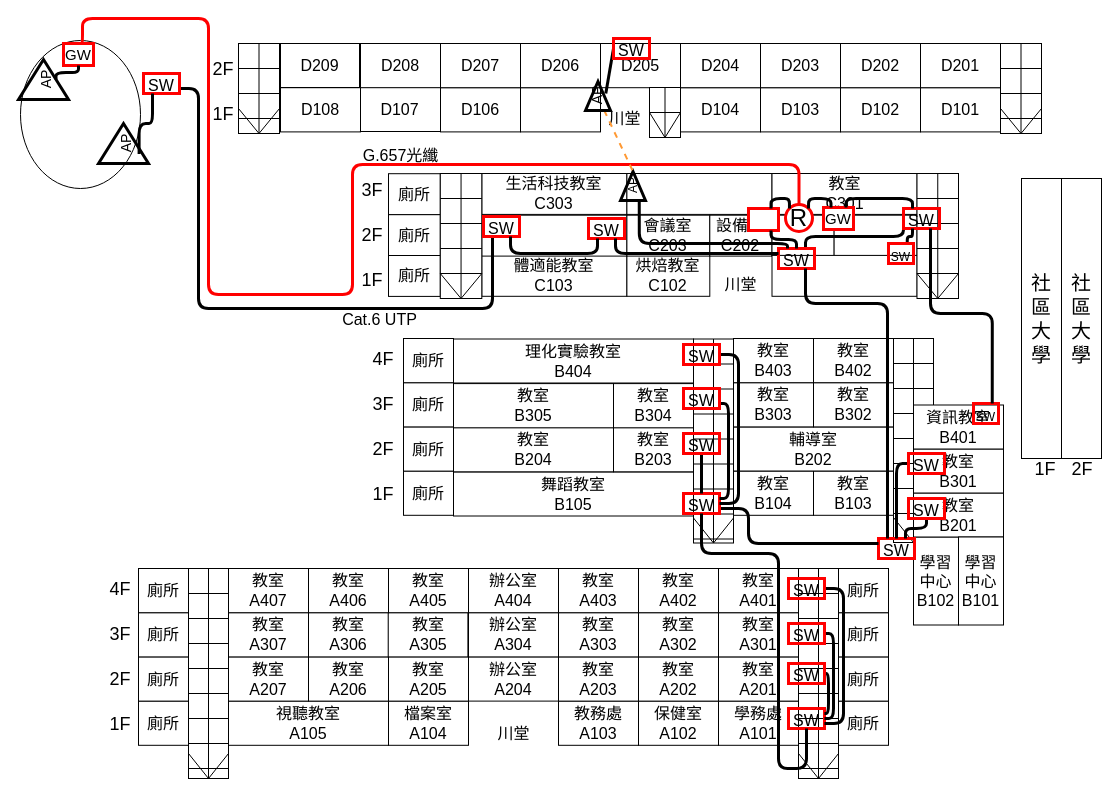
Some shapes in this 1120 by 796 pixel diagram are drawn without their labels. The box of each missing label's shape, as (x1, y1, x2, y2) in pixels:
D105: (520, 87, 600, 132)
FW: (746, 206, 780, 232)
圖書室 C204: (481, 214, 627, 256)
機房 C202: (771, 214, 834, 256)
活動中心: (20, 40, 140, 188)
生物教室 C101: (771, 254, 917, 296)
舞蹈教室 C302: (626, 172, 772, 214)
資訊教室 C201: (833, 214, 917, 256)
